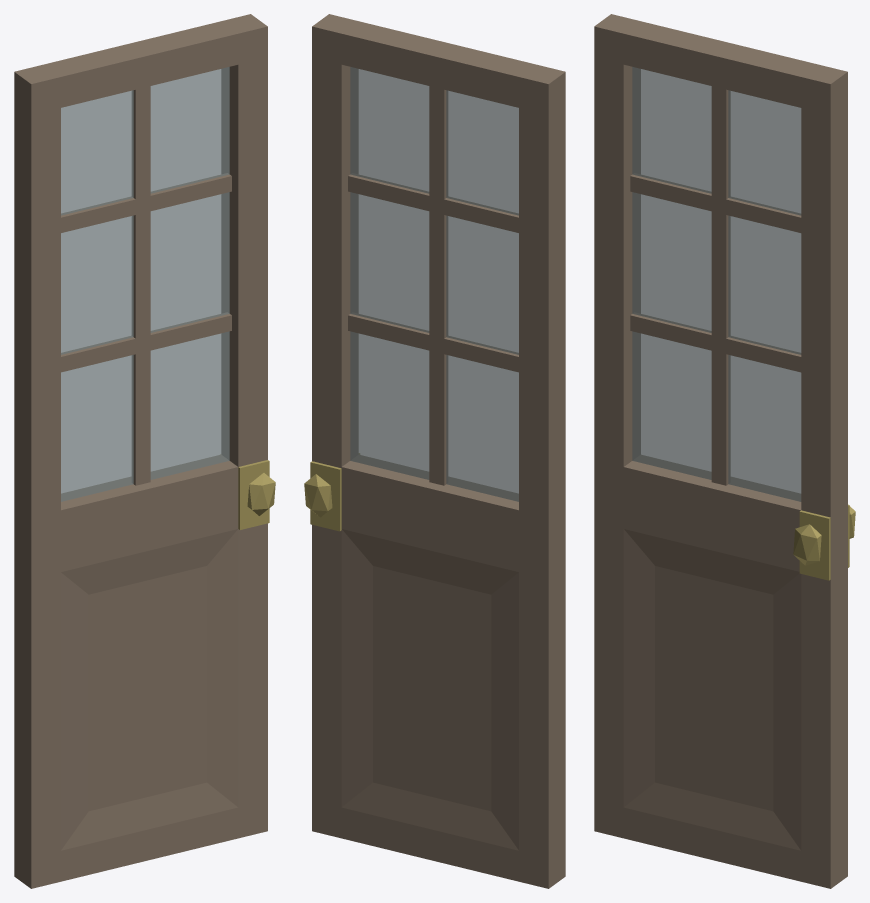
File: victorian_door_small_l.fbx
3 views of the same model, side by side, from view 1: azimuth 30°, elevation 25°; view 2: azimuth 150°, elevation 25°; view 3: azimuth 330°, elevation 25° (orthographic).
Visible parts, largest first — view 1: door.001; view 2: door.001; view 3: door.001.
Part boxes in pixels (x1,y1,x2,y2): door.001: (14, 14, 275, 888); door.001: (304, 14, 565, 888); door.001: (594, 14, 855, 888).
Bounding box in the file's own units: 80 × 260 × 24.33.
